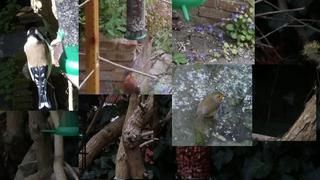goldfinch: (24, 27, 52, 110)
robin: (194, 91, 226, 125)
